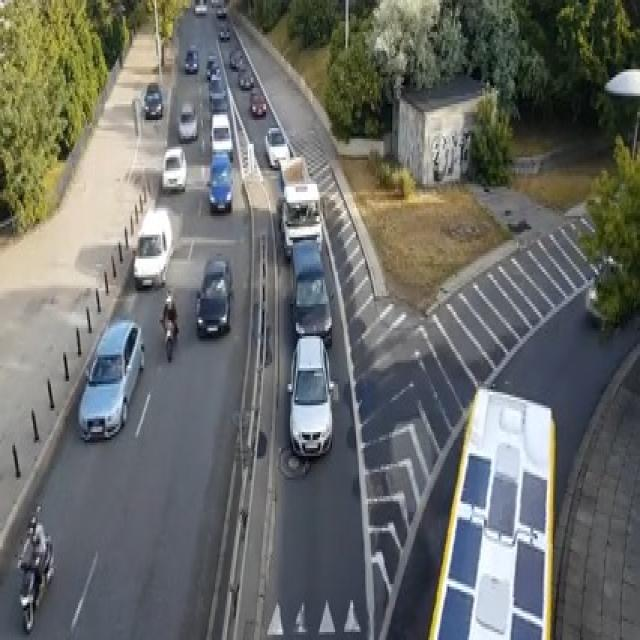bus: (427, 384, 556, 637)
car: (77, 317, 144, 440), (286, 333, 334, 459), (17, 504, 54, 632), (290, 237, 332, 344), (132, 205, 173, 288), (280, 181, 322, 259), (584, 253, 624, 328), (196, 256, 232, 336), (206, 152, 233, 211), (161, 144, 186, 192), (264, 125, 290, 168), (210, 112, 233, 160), (177, 102, 197, 142), (207, 72, 227, 109), (141, 83, 162, 117), (249, 88, 266, 115), (228, 46, 244, 70), (237, 67, 254, 88), (184, 48, 198, 72), (206, 54, 218, 78), (209, 61, 221, 80), (193, 0, 207, 13), (219, 24, 230, 40), (217, 5, 226, 19), (210, 0, 220, 5)
